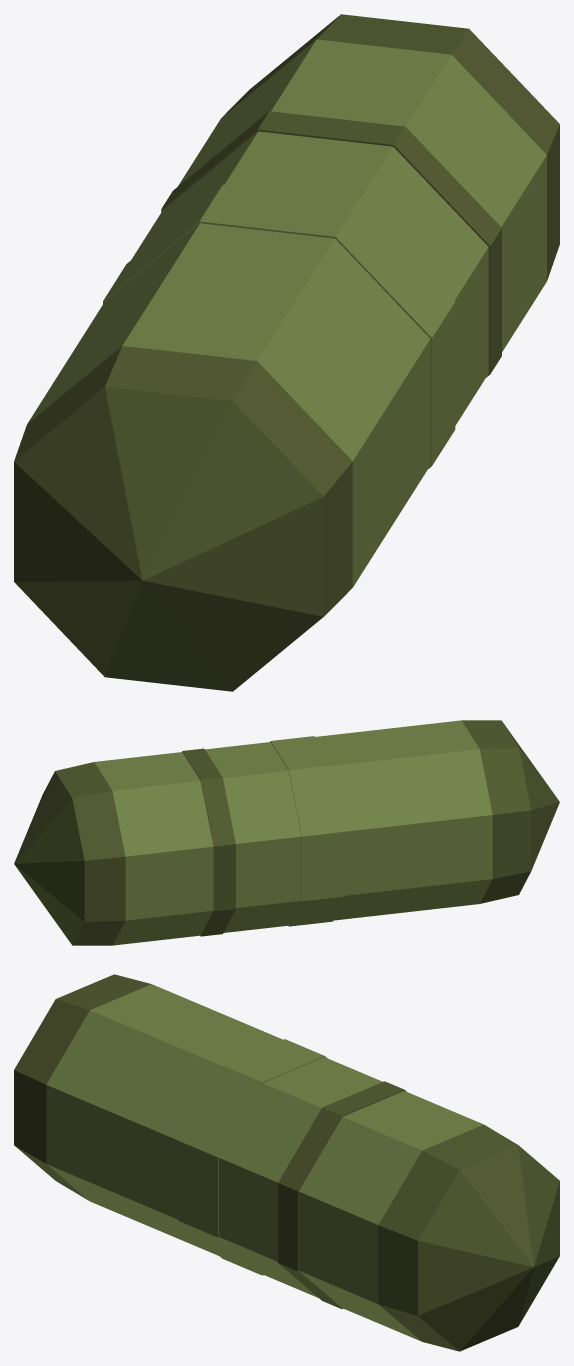
Rendered from ce_ammo2_smaw_thermo_a.obj.
3 renders of one model, top to bottom at view 1: azimuth 30°, elevation 25°; view 2: azimuth 150°, elevation 25°; view 3: azimuth 270°, elevation 25°, orthographic. The views are drawn at different scales.
Visible parts, largest first — view 1: ce_ammo2_smaw_thermo_a_0, ce_ammo2_smaw_thermo_a_2, ce_ammo2_smaw_thermo_a_6, ce_ammo2_smaw_thermo_a_4, ce_ammo2_smaw_thermo_a_1, ce_ammo2_smaw_thermo_a_3, ce_ammo2_smaw_thermo_a_7, ce_ammo2_smaw_thermo_a_5; view 2: ce_ammo2_smaw_thermo_a_2, ce_ammo2_smaw_thermo_a_6, ce_ammo2_smaw_thermo_a_4, ce_ammo2_smaw_thermo_a_3, ce_ammo2_smaw_thermo_a_7, ce_ammo2_smaw_thermo_a_8, ce_ammo2_smaw_thermo_a_1, ce_ammo2_smaw_thermo_a_5, ce_ammo2_smaw_thermo_a_0; view 3: ce_ammo2_smaw_thermo_a_2, ce_ammo2_smaw_thermo_a_8, ce_ammo2_smaw_thermo_a_6, ce_ammo2_smaw_thermo_a_4, ce_ammo2_smaw_thermo_a_3, ce_ammo2_smaw_thermo_a_7, ce_ammo2_smaw_thermo_a_1, ce_ammo2_smaw_thermo_a_5.
Boxes of the visible parts, x1,y1,x2,y2 form: ce_ammo2_smaw_thermo_a_0: (14,387,323,691); ce_ammo2_smaw_thermo_a_2: (27,223,430,587); ce_ammo2_smaw_thermo_a_6: (178,39,546,351); ce_ammo2_smaw_thermo_a_4: (131,131,488,425); ce_ammo2_smaw_thermo_a_1: (14,346,352,616); ce_ammo2_smaw_thermo_a_3: (103,185,455,468); ce_ammo2_smaw_thermo_a_7: (223,14,559,280); ce_ammo2_smaw_thermo_a_5: (161,111,501,377); ce_ammo2_smaw_thermo_a_2: (315,720,492,920); ce_ammo2_smaw_thermo_a_6: (94,752,213,945); ce_ammo2_smaw_thermo_a_4: (205,742,301,932); ce_ammo2_smaw_thermo_a_3: (270,736,345,926); ce_ammo2_smaw_thermo_a_7: (55,762,125,945); ce_ammo2_smaw_thermo_a_8: (14,771,84,945); ce_ammo2_smaw_thermo_a_1: (461,720,531,903); ce_ammo2_smaw_thermo_a_5: (182,748,235,936); ce_ammo2_smaw_thermo_a_0: (503,723,559,870); ce_ammo2_smaw_thermo_a_2: (46,984,282,1255); ce_ammo2_smaw_thermo_a_8: (418,1145,559,1351); ce_ammo2_smaw_thermo_a_6: (298,1091,483,1341); ce_ammo2_smaw_thermo_a_4: (219,1057,382,1297); ce_ammo2_smaw_thermo_a_3: (178,1039,326,1275); ce_ammo2_smaw_thermo_a_7: (378,1124,517,1351); ce_ammo2_smaw_thermo_a_1: (14,974,151,1200); ce_ammo2_smaw_thermo_a_5: (278,1081,406,1309).
Bounding box in the file's own units: 0.43 × 0.168 × 0.43.
